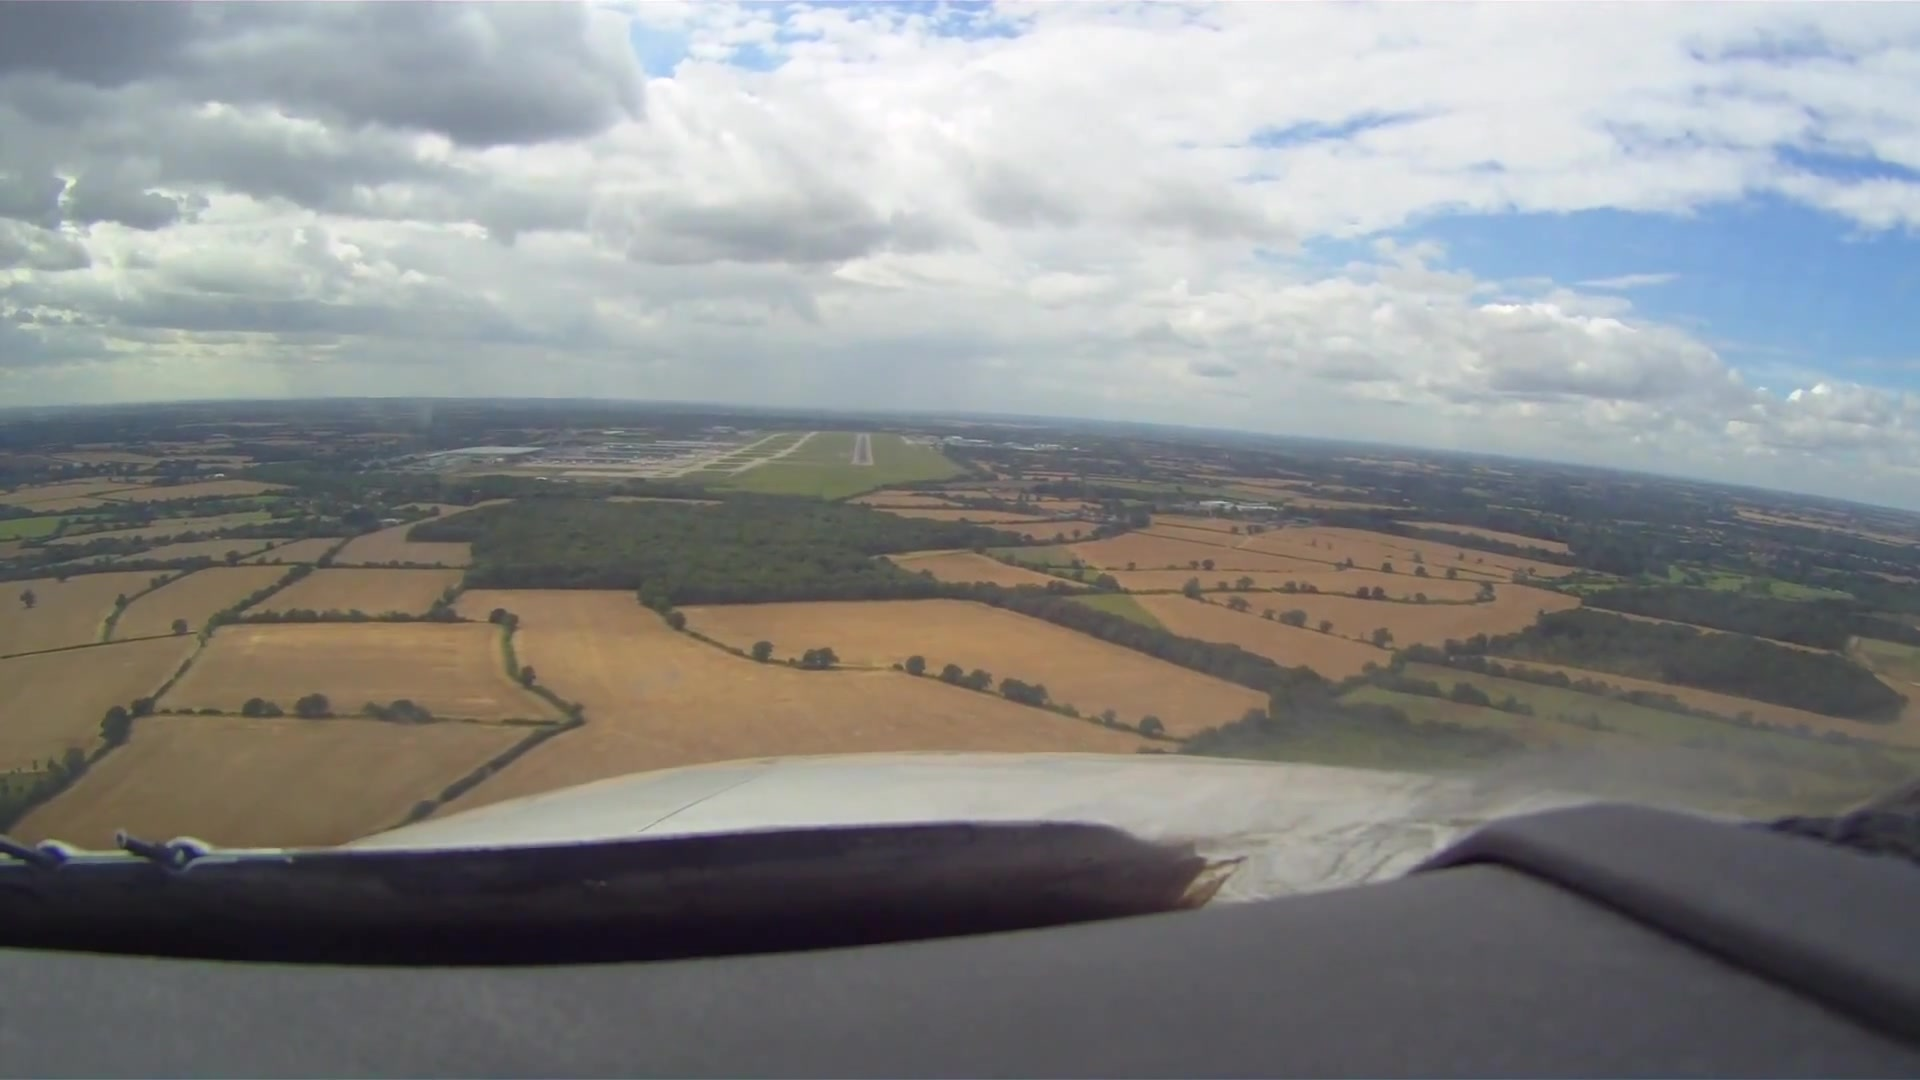runway: (851, 434, 873, 465)
